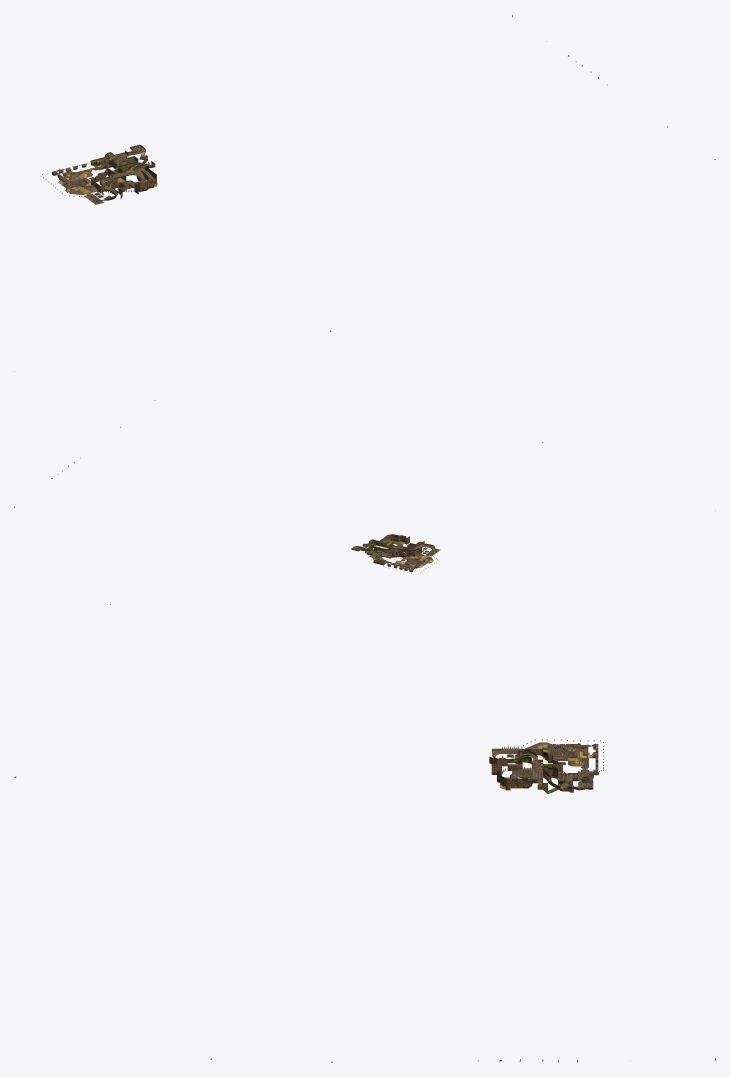
File: RegalRuin.glb
3 views of the same model, one above another, from view 1: azimuth 30°, elevation 25°; view 2: azimuth 150°, elevation 25°; view 3: azimuth 270°, elevation 25° (orthographic). The views are drawn at different scales.
Visible parts, largest first — view 1: Dec0; view 2: Dec0; view 3: Dec0.
Boxes of the visible parts, <box> form: Dec0: <box>14,15,715,371</box>; Dec0: <box>14,400,542,574</box>; Dec0: <box>14,604,715,1062</box>.
Size of the model in its own units: 1418 by 20.49 by 918.
Materials: 13 (12 with a texture image).
